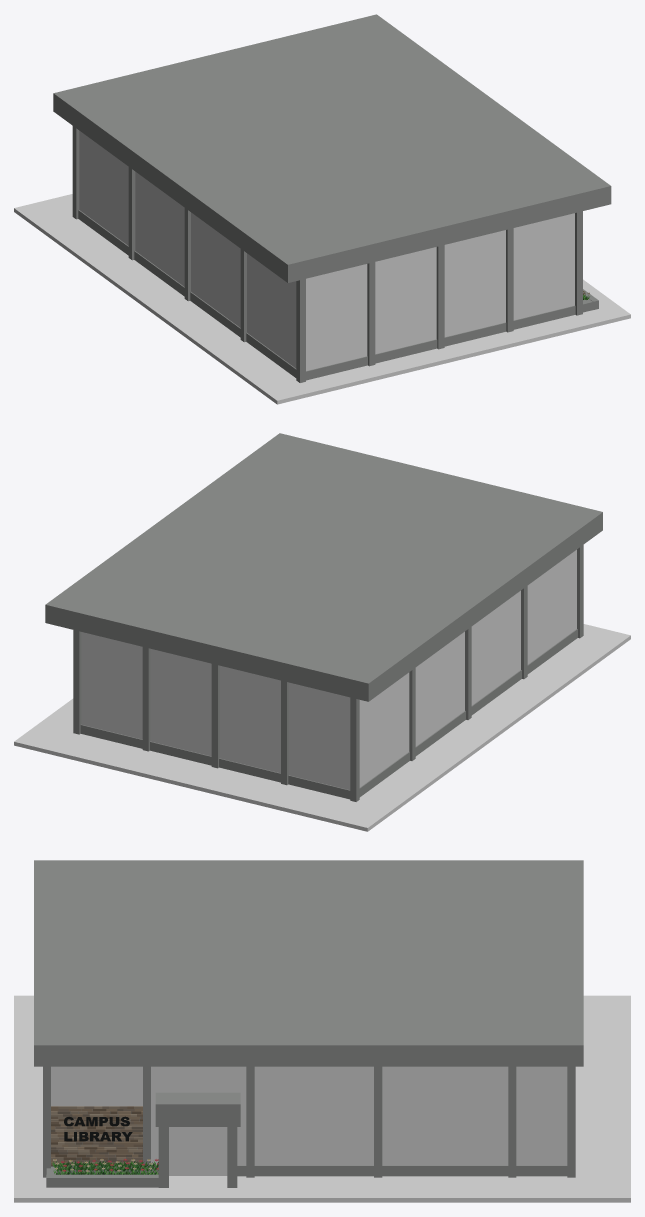
The model's file is LibraryNav.glb.
3 renders of one model, top to bottom at view 1: azimuth 30°, elevation 25°; view 2: azimuth 150°, elevation 25°; view 3: azimuth 270°, elevation 25°, orthographic. The views are drawn at different scales.
Visible parts, largest first — view 1: Roof piece 2, Cube, Roof piece 2.001, Grey wall base, Grey wall base.002, Grey column, Grey column.009, Grey column.010, Grey column.005, Grey column.011, Grey column.004, Grey column.003 (+2 smaller); view 2: Roof piece 2, Cube, Roof piece 2.001, Grey wall base.001, Grey wall base.002, Grey column.004, Grey column.008, Grey column.013, Grey column.014, Grey column.012, Grey column, Grey column.001 (+2 smaller); view 3: Roof piece 2, Cube, Roof piece 2.001, Wood tile panel behind library name, Grey wall base.004, Roof piece 1, Cube.002, Grey column.006, Grey column.008, Grey column.007, Grey column.016, Grey column.005 (+6 smaller).
Boxes of the visible parts, bbox=[...] form: Roof piece 2: bbox=[53, 14, 611, 282]; Cube: bbox=[79, 131, 574, 370]; Roof piece 2.001: bbox=[14, 194, 630, 404]; Grey wall base: bbox=[306, 305, 575, 380]; Grey wall base.002: bbox=[78, 210, 296, 377]; Grey column: bbox=[296, 279, 305, 382]; Grey column.009: bbox=[367, 262, 375, 366]; Grey column.010: bbox=[436, 245, 444, 349]; Grey column.005: bbox=[575, 211, 582, 315]; Grey column.011: bbox=[506, 228, 513, 332]; Grey column.004: bbox=[72, 126, 79, 219]; Grey column.003: bbox=[128, 167, 135, 260]; Roof piece 2: bbox=[45, 433, 602, 701]; Cube: bbox=[81, 549, 576, 789]; Roof piece 2.001: bbox=[14, 624, 630, 831]; Grey wall base.001: bbox=[80, 724, 350, 799]; Grey wall base.002: bbox=[359, 629, 577, 797]; Grey column.004: bbox=[350, 697, 359, 801]; Grey column.008: bbox=[73, 630, 81, 734]; Grey column.013: bbox=[211, 663, 219, 768]; Grey column.014: bbox=[142, 647, 150, 751]; Grey column.012: bbox=[281, 680, 288, 785]; Grey column: bbox=[577, 545, 583, 638]; Grey column.001: bbox=[521, 586, 527, 679]; Roof piece 2: bbox=[34, 860, 583, 1066]; Cube: bbox=[51, 1066, 567, 1175]; Roof piece 2.001: bbox=[14, 995, 630, 1202]; Wood tile panel behind library name: bbox=[51, 1106, 142, 1165]; Grey wall base.004: bbox=[237, 1165, 567, 1176]; Roof piece 1: bbox=[155, 1092, 240, 1126]; Cube.002: bbox=[46, 1174, 158, 1187]; Grey column.006: bbox=[246, 1066, 254, 1177]; Grey column.008: bbox=[567, 1066, 575, 1177]; Grey column.007: bbox=[374, 1066, 382, 1177]; Grey column.016: bbox=[508, 1066, 516, 1177]; Grey column.005: bbox=[43, 1066, 50, 1177].
Bounding box in the file's own units: 12.78 × 4.44 × 16.47.
